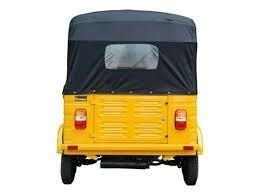keke: (64, 8, 206, 186)
